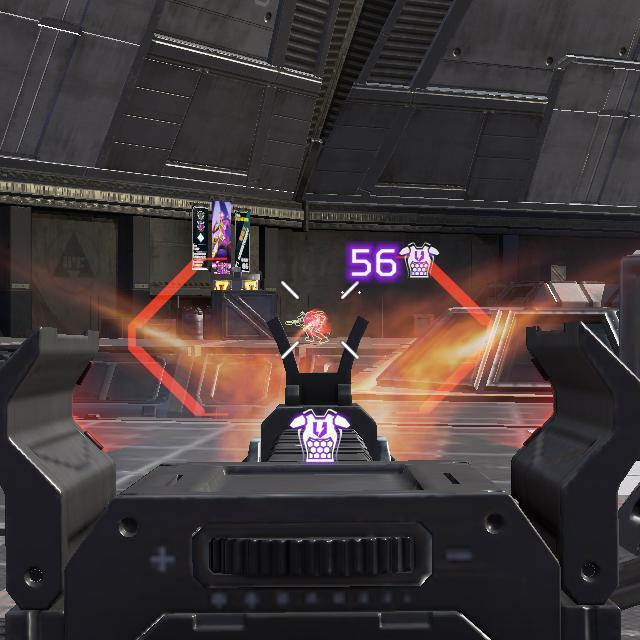avatar: (296, 309, 330, 345)
object: (303, 308, 331, 339)
